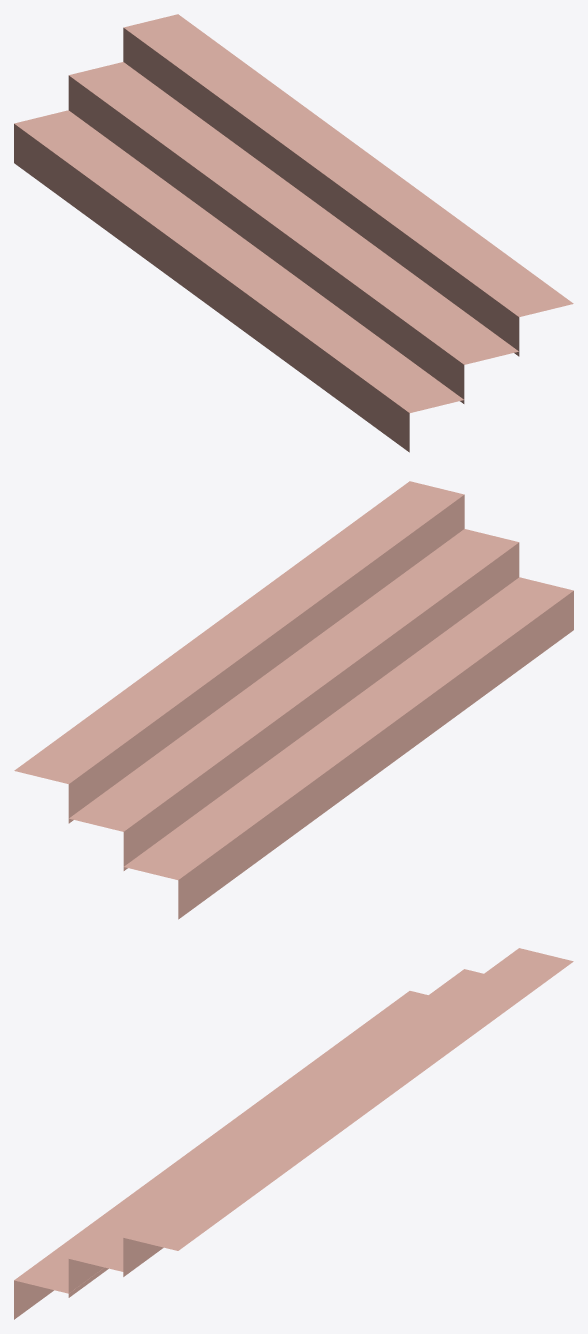
The model's file is Museum_3Stairs.fbx.
3 views of the same model, one above another, from view 1: azimuth 30°, elevation 25°; view 2: azimuth 150°, elevation 25°; view 3: azimuth 330°, elevation 25° (orthographic).
Parts seen in each view (by area): view 1: Archi_Sol.005; view 2: Archi_Sol.005; view 3: Archi_Sol.005.
Part boxes in pixels (<box>): Archi_Sol.005: <box>14,14,573,452</box>; Archi_Sol.005: <box>14,481,573,919</box>; Archi_Sol.005: <box>14,948,573,1319</box>.
Size of the model in its own units: 131 by 83.33 by 549.
